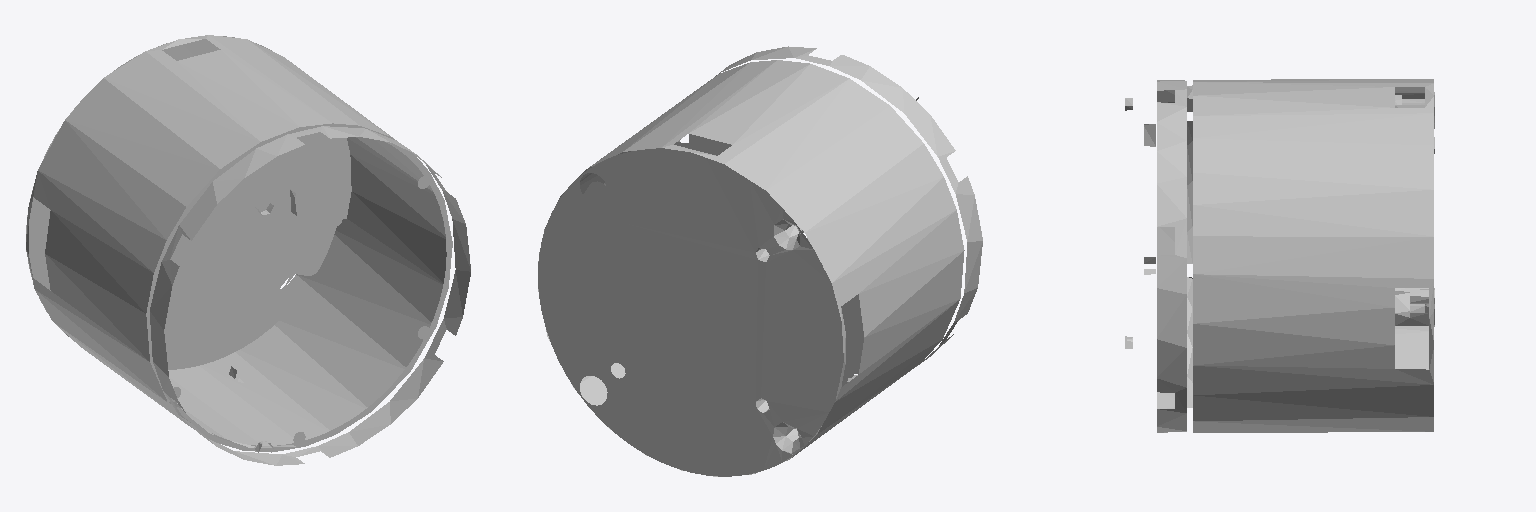
3 renders of one model, left to right at view 1: azimuth 30°, elevation 25°; view 2: azimuth 150°, elevation 25°; view 3: azimuth 270°, elevation 25°, orthographic.
Parts seen in each view (by area): view 1: link4_0; view 2: link4_0; view 3: link4_0.
Part boxes in pixels (bbox=[...]): link4_0: bbox=[26, 35, 470, 465]; link4_0: bbox=[538, 46, 982, 476]; link4_0: bbox=[1125, 79, 1434, 432].
Size of the model in its own units: 57.26 by 57.13 by 50.